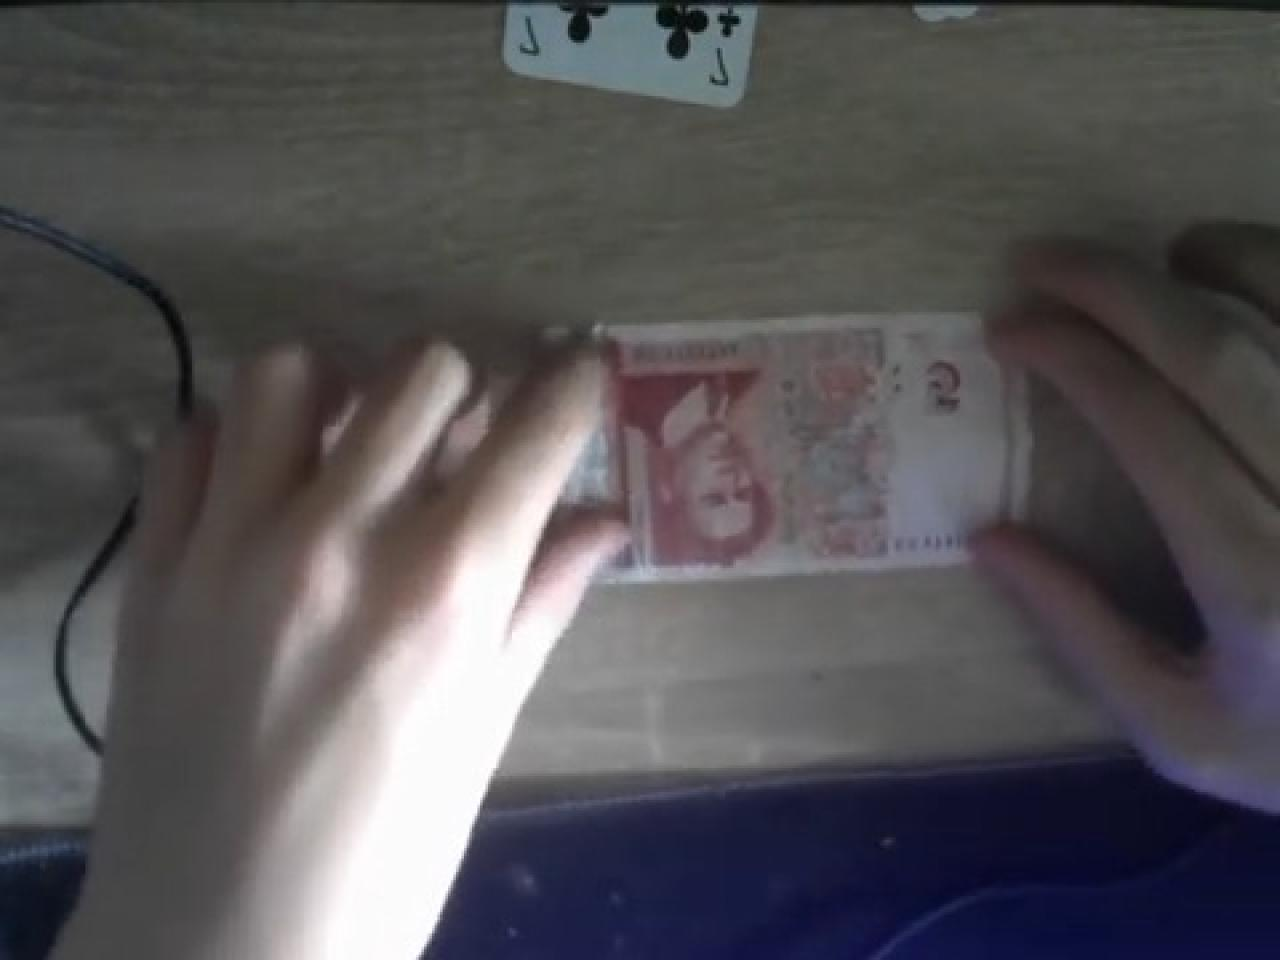5leva: (616, 320, 1019, 576)
